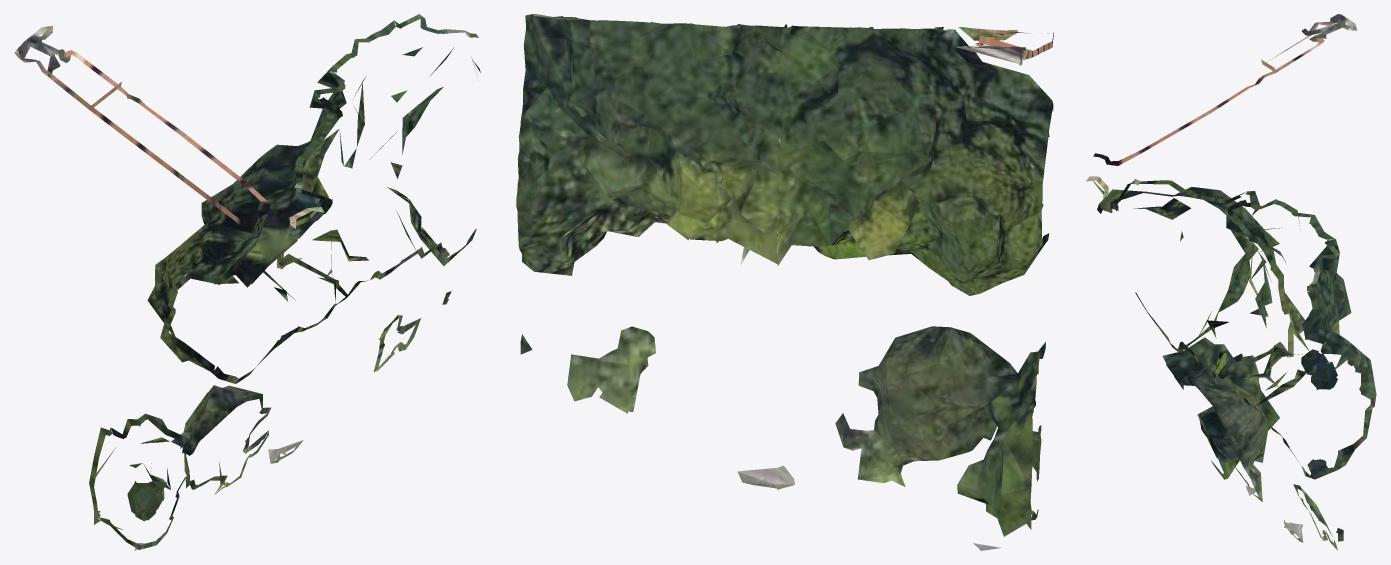
File: AJVsH2z1wHqcWaXm32jDa2w2Rwj9HEoo4SKAnN3N45kyKzQefrdlgx-V4WXo-3qWhLejJpVY9ljl0m2o5NqtE0DxYatCf4skw6Ad_J_KJBSmNVZeDtX3KfE7PbZo5AbMCmDLVIN9nRp-9K4I9rQ15BMarIrh.glb
3 views of the same model, side by side, from view 1: azimuth 30°, elevation 25°; view 2: azimuth 150°, elevation 25°; view 3: azimuth 270°, elevation 25° (orthographic). The views are drawn at different scales.
Bounding box in the file's own units: 40.37 × 41.67 × 24.58.
1 material, 1 textured.
